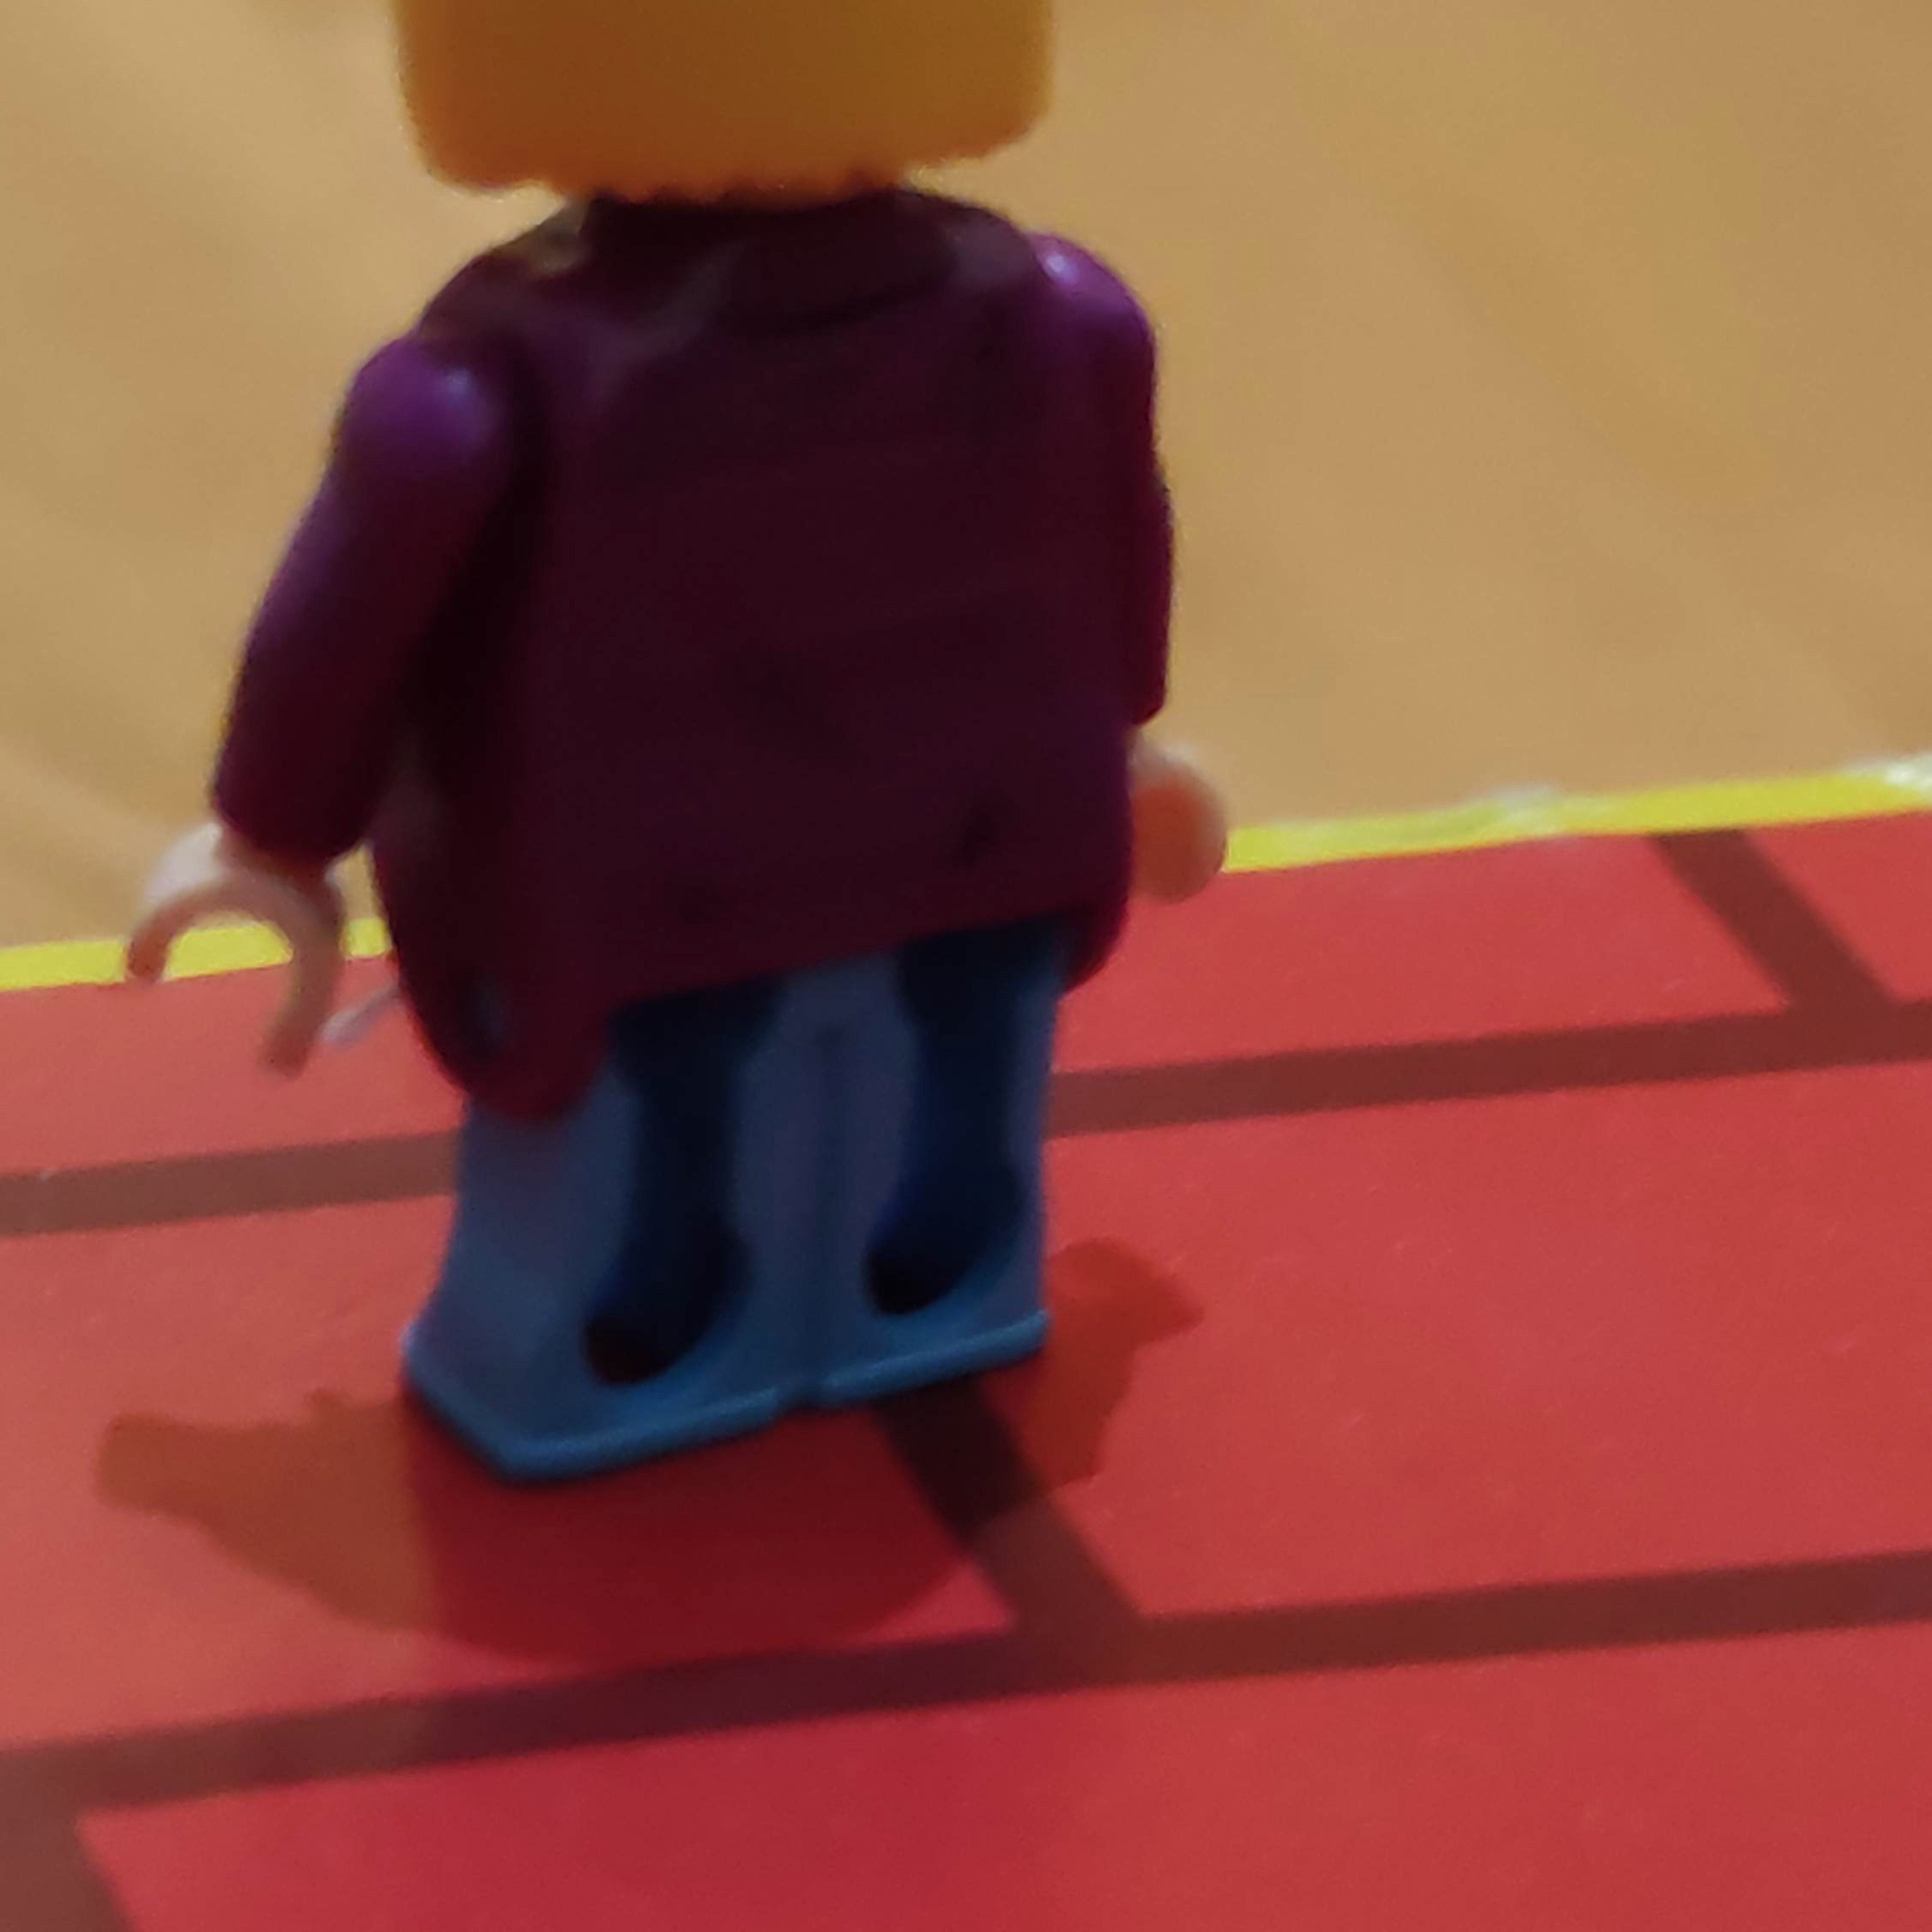lego: (127, 0, 1235, 1491)
